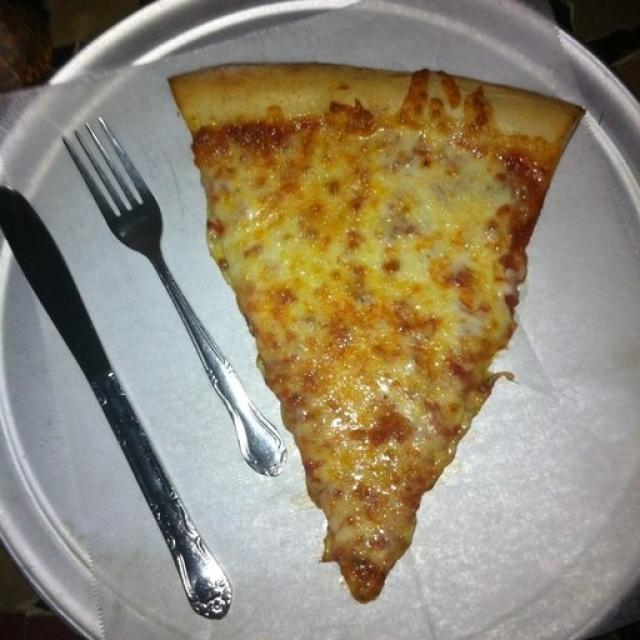Pizza: (171, 62, 580, 602)
